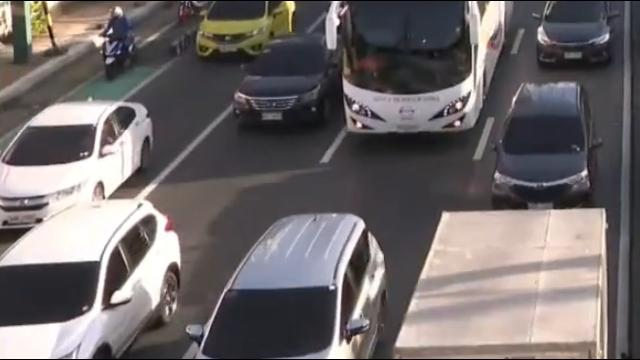bus: (339, 0, 512, 138)
car: (188, 211, 390, 360), (0, 199, 180, 360), (0, 97, 156, 226), (491, 81, 601, 208), (228, 35, 335, 131), (529, 0, 618, 73), (193, 0, 294, 62)
motorcycle: (97, 3, 139, 78)
truck: (393, 208, 612, 360)
